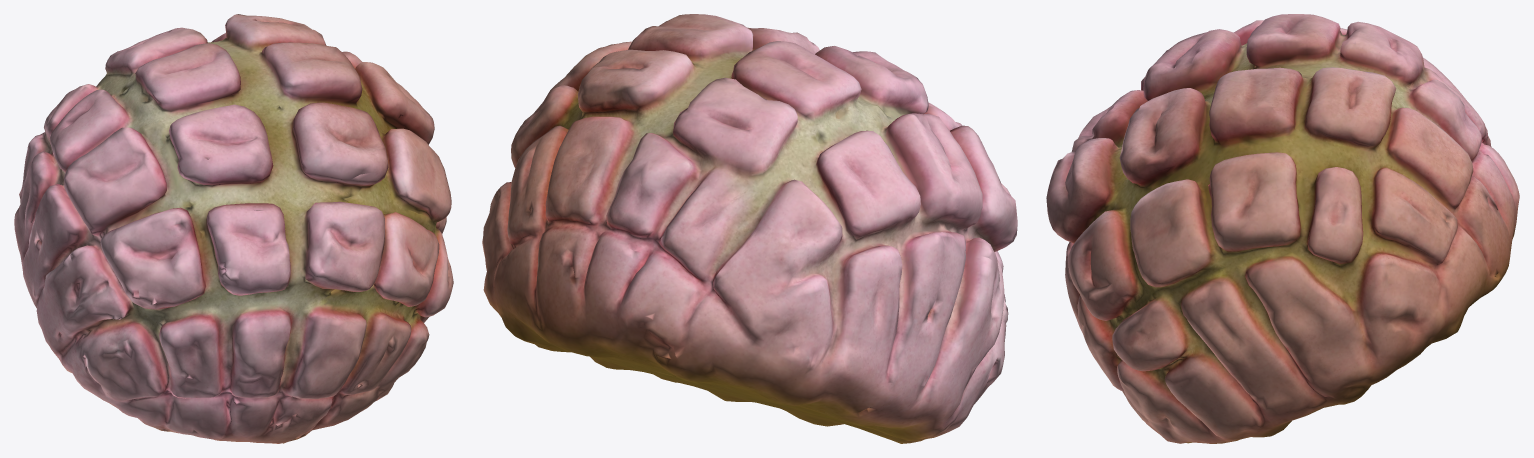
The model's file is Stack 1B - Concha.glb.
The picture shows the model from 3 angles, left to right: view 1: azimuth 30°, elevation 25°; view 2: azimuth 150°, elevation 25°; view 3: azimuth 270°, elevation 25°; orthographic projection. The views are drawn at different scales.
Visible parts, largest first — view 1: Stack 1B - Concha · mesh; view 2: Stack 1B - Concha · mesh; view 3: Stack 1B - Concha · mesh.
Boxes of the visible parts, x1,y1,x2,y2 form: Stack 1B - Concha · mesh: (14,14,453,443); Stack 1B - Concha · mesh: (482,14,1017,443); Stack 1B - Concha · mesh: (1046,14,1519,443).
Size of the model in its own units: 1 by 0.8901 by 1.01.
1 material, 1 textured.
